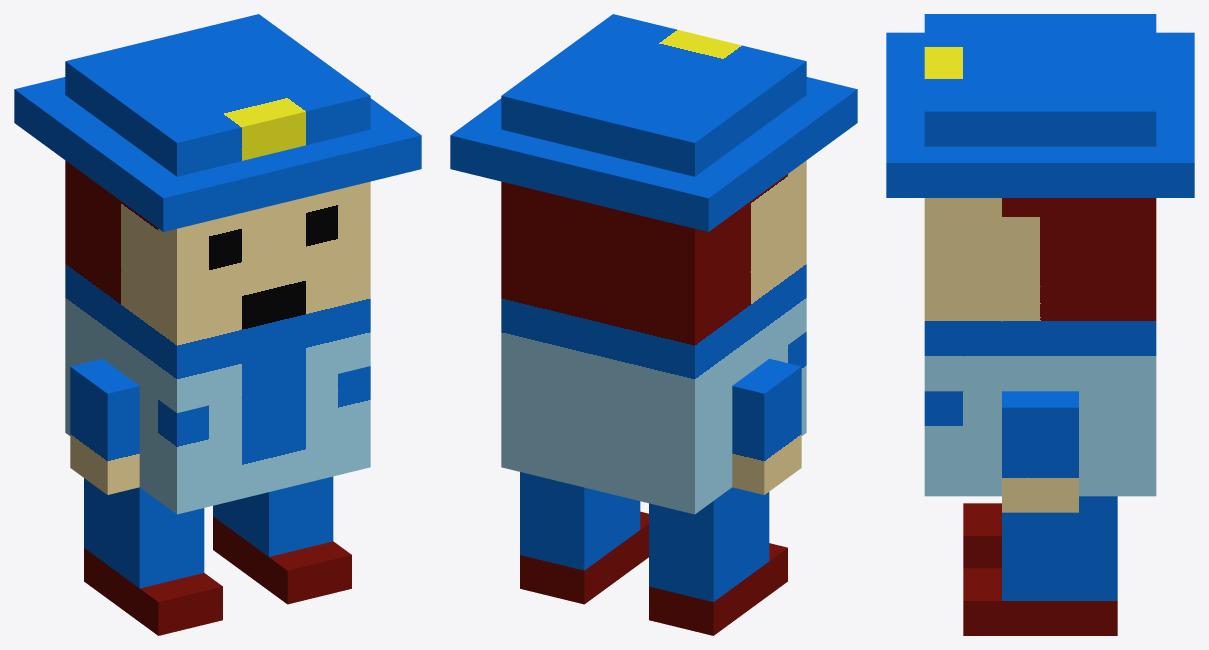
File: Police.fbx
The picture shows the model from 3 angles, left to right: view 1: azimuth 30°, elevation 25°; view 2: azimuth 150°, elevation 25°; view 3: azimuth 270°, elevation 25°; orthographic projection. The views are drawn at different scales.
Parts seen in each view (by area): view 1: Police; view 2: Police; view 3: Police.
Boxes of the visible parts, x1,y1,x2,y2 form: Police: (14,14,421,635); Police: (450,14,857,635); Police: (886,14,1194,635).
Size of the model in its own units: 8 by 15 by 8.
Materials: 1 (1 with a texture image).
